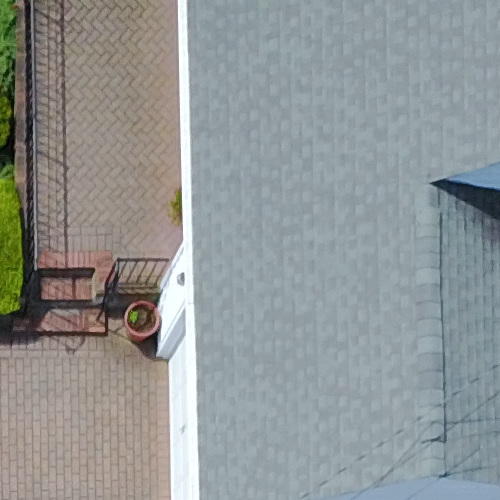flower pot: (109, 295, 163, 343)
